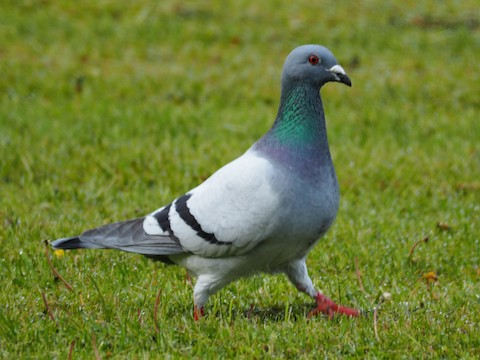pigeon: (51, 42, 362, 325)
